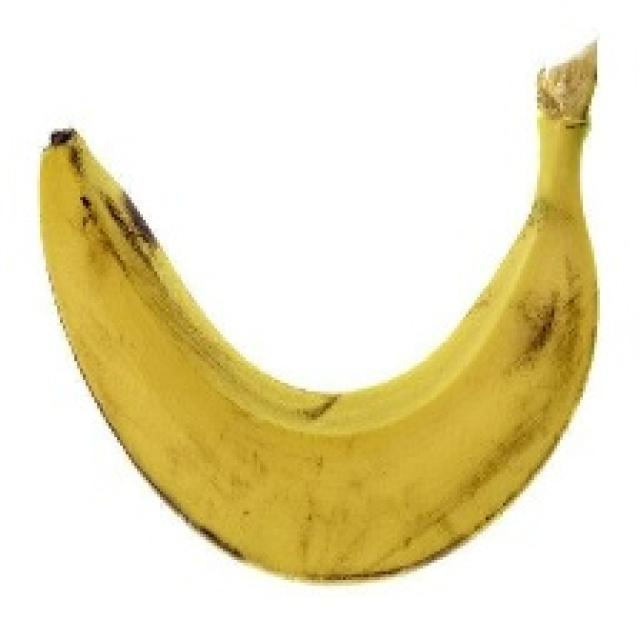Banana: (34, 34, 600, 583)
